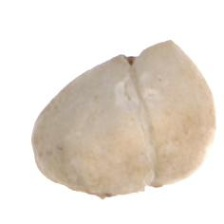L3: (113, 38, 175, 65)
L4: (30, 40, 215, 200)
